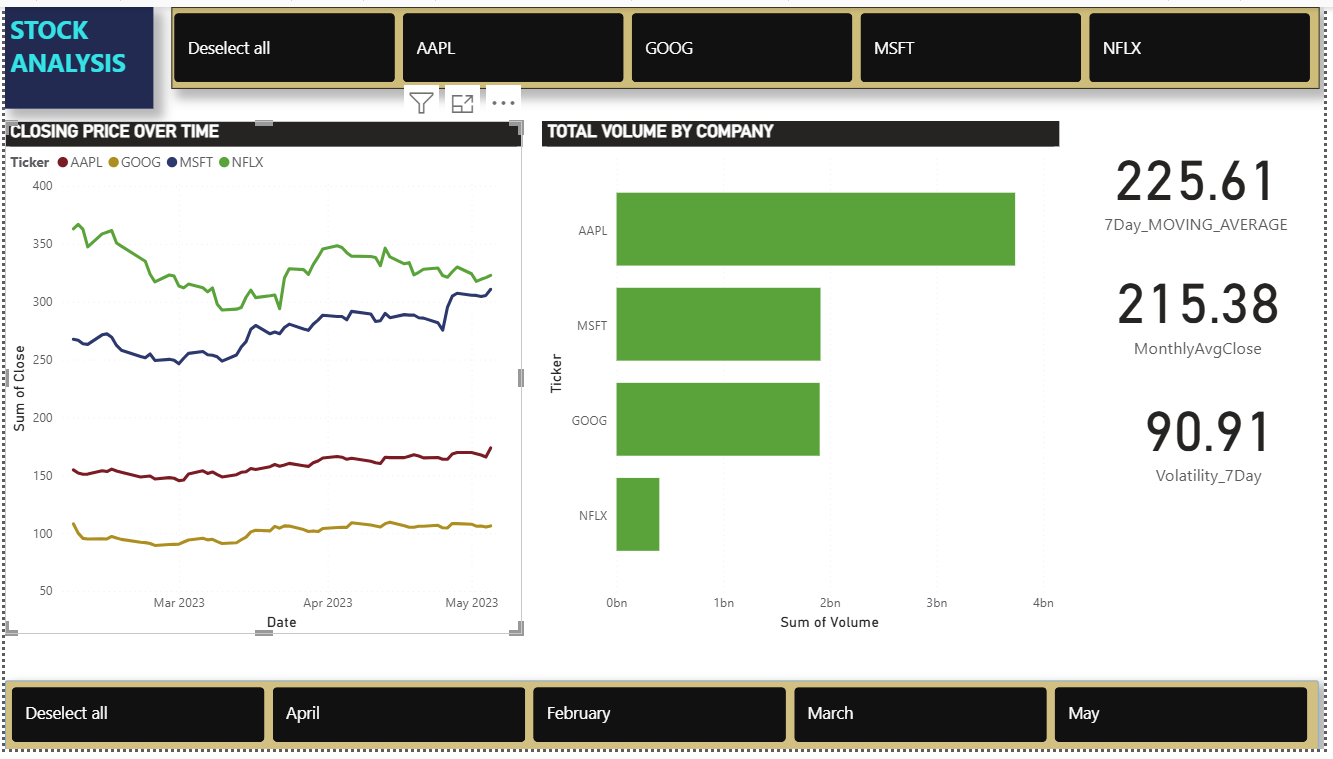

What the dashboard file says about the page in this screenshot:
{"tool":"powerbi","page":{"name":"Page 1","canvas":[1280,720],"ordinal":0},"visuals":[{"type":"textbox","box":[0,0,144.1,98.8],"z":0},{"type":"advancedSlicerVisual","fields":{"Values":["stocks.Ticker"]},"box":[161.9,0,1114,79.3],"z":1000},{"type":"lineChart","title":"CLOSING PRICE OVER TIME","fields":{"Category":["stocks.Date"],"Y":["Sum(stocks.Close)"],"Series":["stocks.Ticker"]},"box":[0,110.1,502,498.7],"z":2000},{"type":"barChart","title":"TOTAL VOLUME BY COMPANY","fields":{"Category":["stocks.Ticker"],"Y":["Sum(stocks.Volume)"]},"box":[521.4,110.1,502,498.7],"z":3000},{"type":"card","fields":{"Values":["Calendar.Volatility_7Day"]},"box":[1055.7,359.5,225.1,111.7],"z":3001},{"type":"card","fields":{"Values":["Calendar.MonthlyAvgClose"]},"box":[1063.8,231.5,186.2,119.8],"z":3002},{"type":"card","fields":{"Values":["Calendar.7Day_MOVING_AVERAGE"]},"box":[1034.7,110.1,241.3,121.4],"z":3003},{"type":"advancedSlicerVisual","fields":{"Values":["Calendar.Month"]},"box":[0,652.8,1274.9,67.4],"z":3004}]}

Visuals, with their boxes in screenshot pixels (x1, y1, x2, y2), scaled from the page's 1280x720 canvas onto the 1333x759 screenshot:
textbox: x1=0 y1=0 x2=150 y2=104
advancedSlicerVisual - stocks.Ticker: x1=169 y1=0 x2=1329 y2=84
"CLOSING PRICE OVER TIME" lineChart: x1=0 y1=116 x2=523 y2=642
"TOTAL VOLUME BY COMPANY" barChart: x1=543 y1=116 x2=1066 y2=642
card - Calendar.Volatility_7Day: x1=1099 y1=379 x2=1332 y2=497
card - Calendar.MonthlyAvgClose: x1=1108 y1=244 x2=1302 y2=370
card - Calendar.7Day_MOVING_AVERAGE: x1=1078 y1=116 x2=1329 y2=244
advancedSlicerVisual - Calendar.Month: x1=0 y1=688 x2=1328 y2=758
